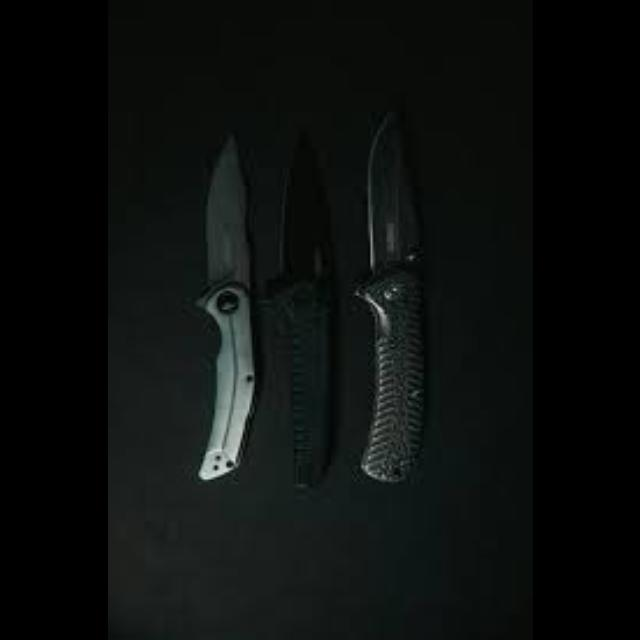Knife: (354, 108, 426, 484), (190, 130, 256, 480)
